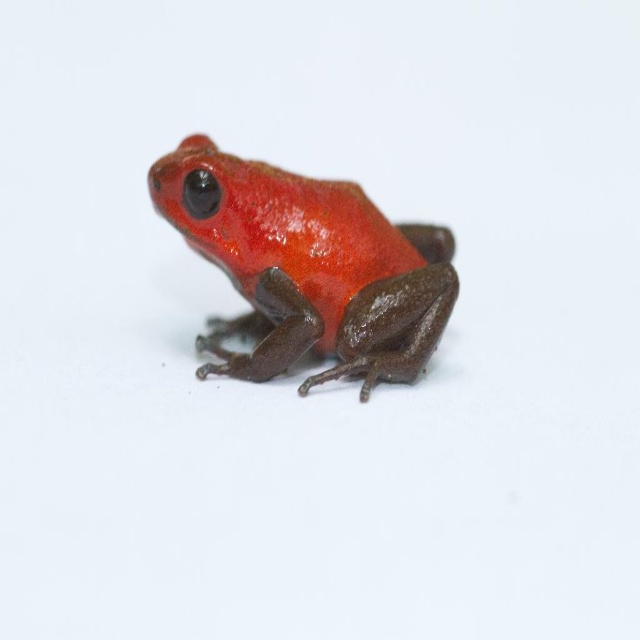Frog: (147, 134, 460, 403)
